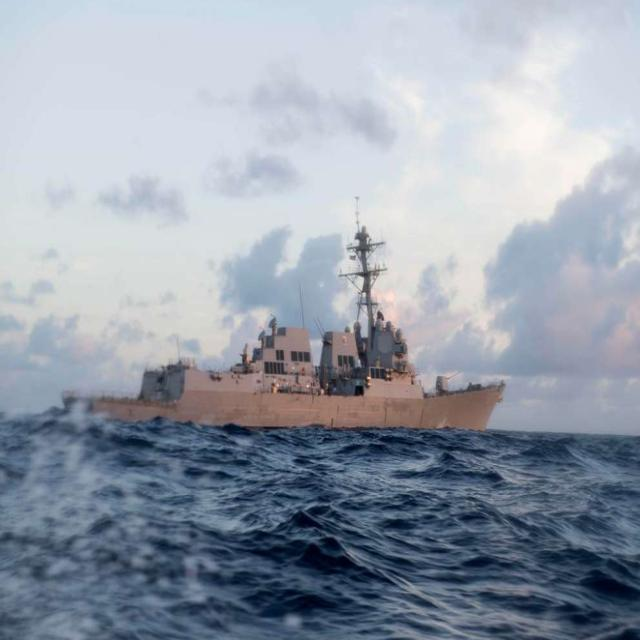navalvessels: (65, 190, 522, 438)
